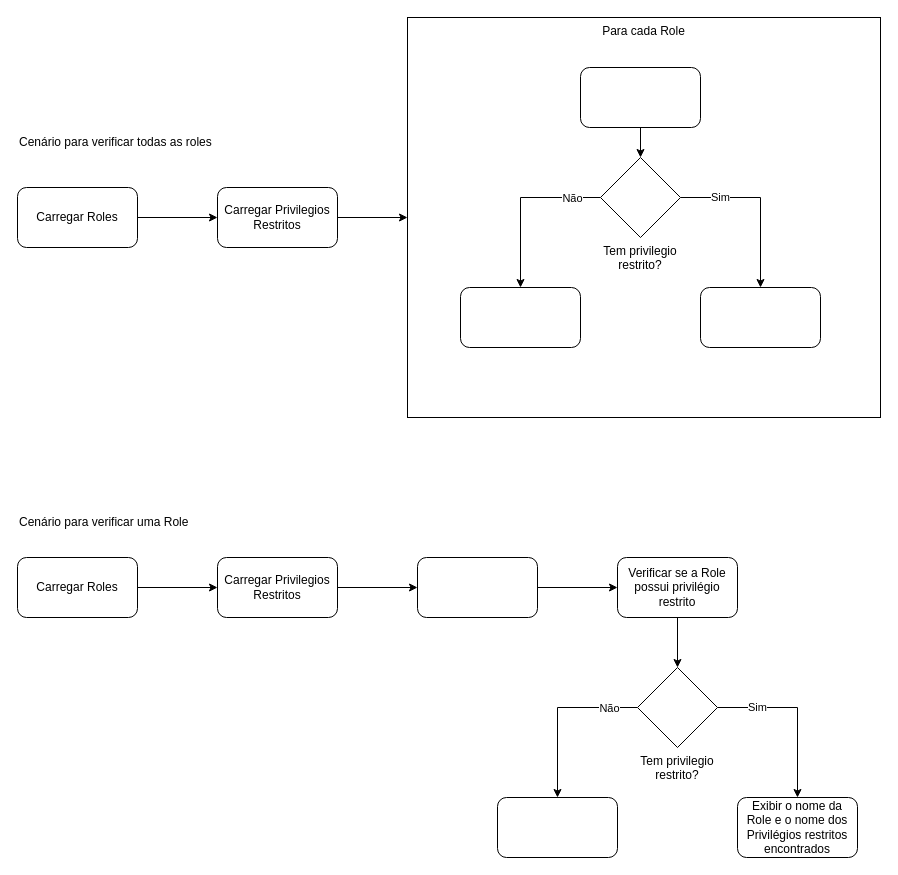
Image size: 898x875. Some labels were removed from this diagram. The shapes that lost their labels are listed below. From the top down, each one's box as (x1, y1, x2, y2) in pixels, then its label:
(580, 66, 700, 128): Verificar se a Role possui algum privilegio restrito
(460, 286, 580, 348): Próxima Role
(700, 286, 820, 348): Exibir o nome da Role e o nome do Privilégio
(416, 556, 538, 618): Usuário insere nome da Role pra verificar
(496, 796, 618, 858): Exibir mensagem que não possui
